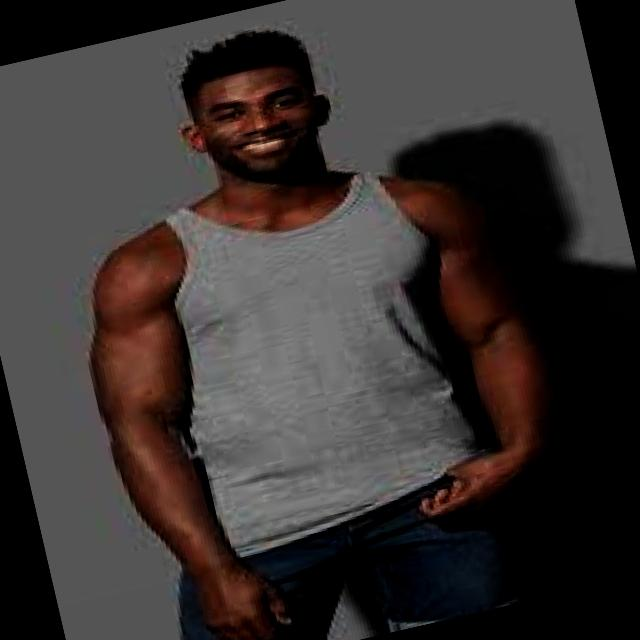no_vest: (138, 152, 495, 562)
